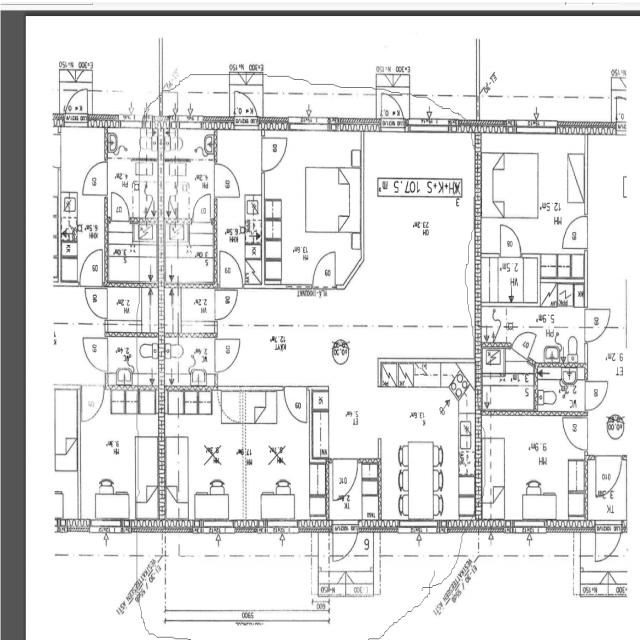door: (592, 452, 624, 498), (329, 457, 360, 504), (593, 518, 624, 564), (559, 210, 590, 252), (331, 518, 359, 561), (560, 412, 589, 453), (378, 88, 407, 128), (310, 247, 338, 288), (262, 132, 290, 172), (213, 159, 241, 199), (584, 304, 612, 344), (232, 88, 260, 127), (215, 333, 242, 373), (282, 384, 309, 424), (63, 86, 90, 126), (582, 376, 611, 413), (78, 247, 106, 285), (217, 248, 243, 288), (496, 221, 524, 258), (82, 158, 108, 196), (82, 334, 108, 372), (80, 384, 105, 423), (214, 286, 240, 321), (84, 285, 108, 320), (218, 388, 241, 424), (108, 189, 132, 222), (190, 192, 213, 224)
window: (287, 115, 332, 137), (512, 117, 559, 138), (408, 116, 454, 136), (396, 518, 439, 538), (512, 518, 550, 535), (177, 117, 206, 130), (116, 117, 142, 128), (489, 550, 506, 560)
zone: (361, 134, 472, 274), (263, 127, 361, 281), (483, 132, 587, 251), (480, 412, 587, 526), (164, 394, 250, 527), (79, 390, 161, 525), (241, 388, 319, 527), (389, 439, 453, 523), (501, 307, 586, 365), (163, 157, 216, 219), (164, 224, 217, 285), (478, 255, 540, 306), (108, 157, 158, 219), (104, 228, 158, 285), (106, 335, 159, 388), (164, 335, 216, 388), (534, 364, 586, 415), (105, 285, 157, 334), (168, 285, 216, 335), (540, 253, 587, 301), (106, 123, 156, 159), (168, 124, 216, 160), (329, 456, 360, 505), (592, 454, 624, 495), (80, 247, 106, 285)
